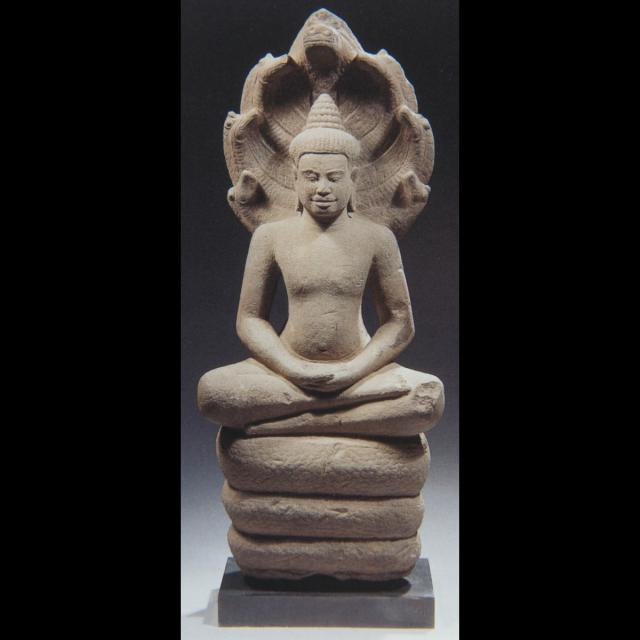buddha-sitting: (198, 4, 438, 580)
